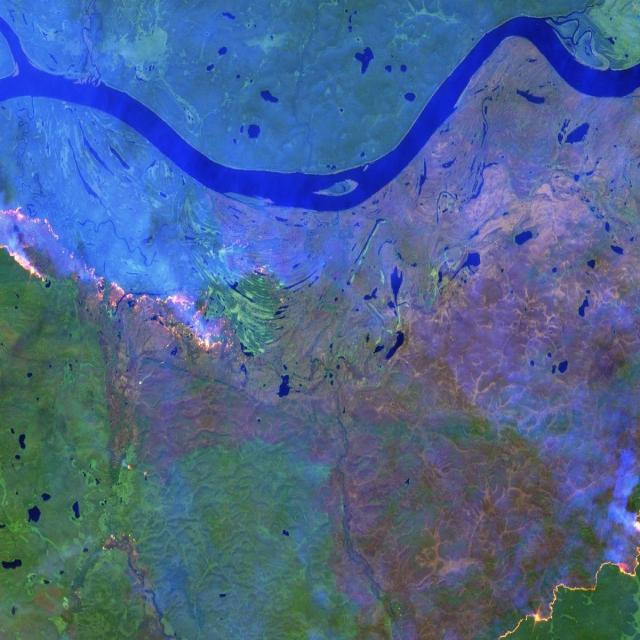fire: (0, 202, 227, 356), (491, 503, 640, 640)
